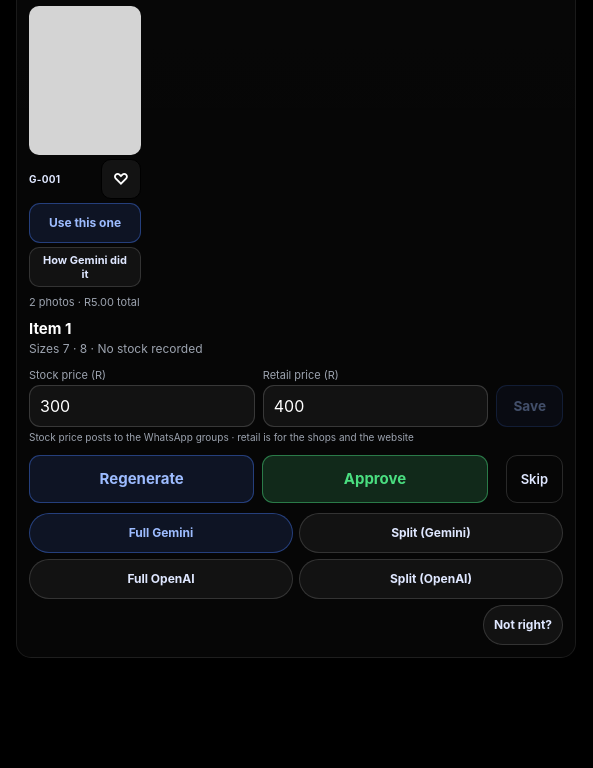
Test: taps that overlap, answers that never come, lists that change › a price saved while a photo is being made is written AT ONCE — it does not wait for the generation
(page scrolled)
Click the button "Regenerate" at (142, 479), box [29,455,254,503]
(page scrolled)
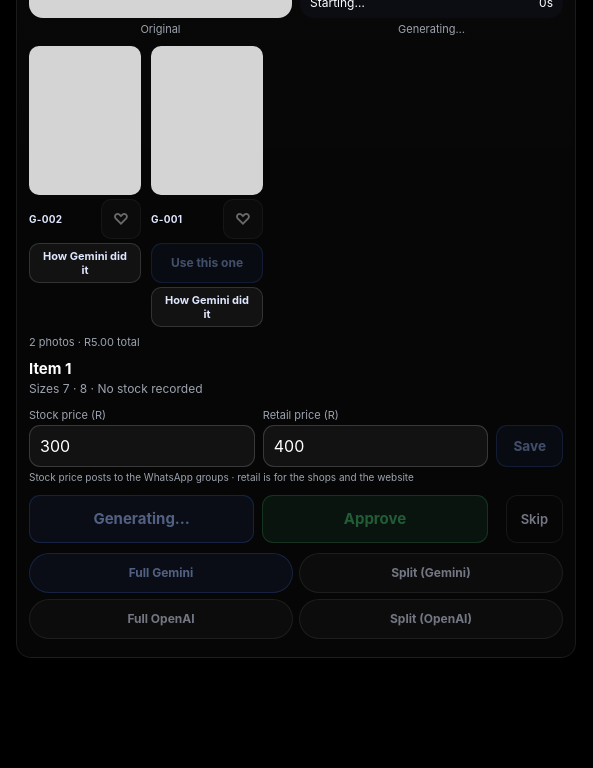
Replace the text in the field labelled "Retail price (R)" with "450" at (376, 446), box [263,425,488,467]
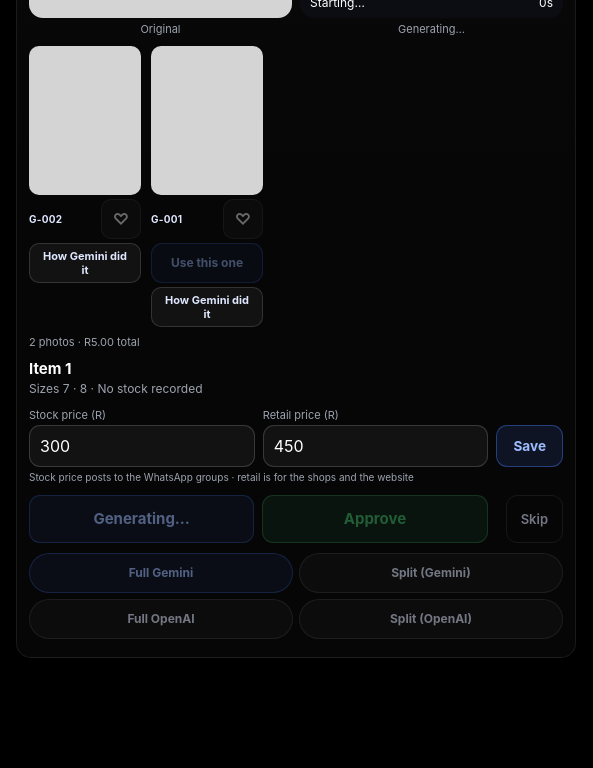
Click the button "Save" at (530, 446), box [496,425,563,467]
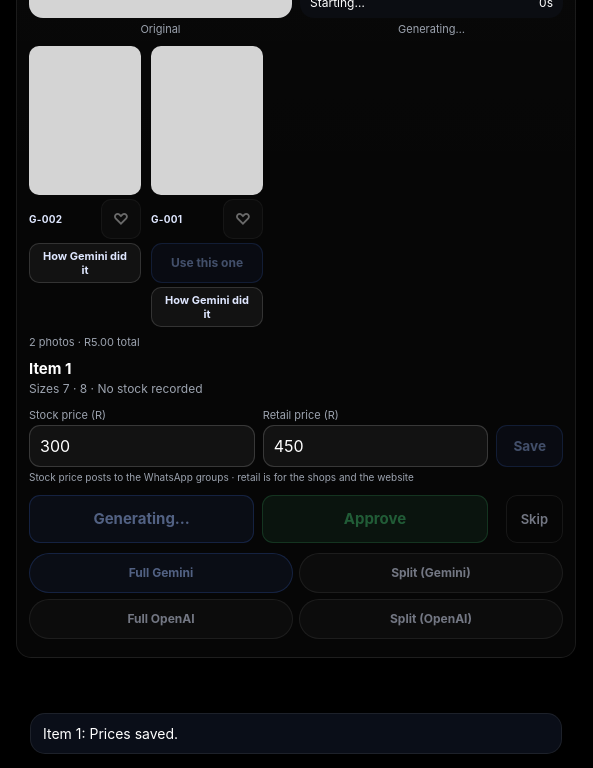
Result: the message "Item 1: Prices saved." is shown at [30,713,562,754]
